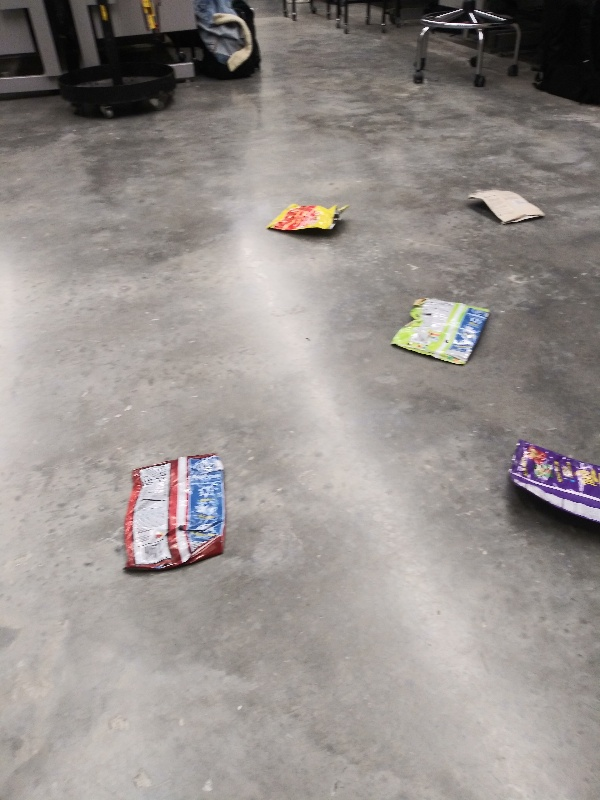bag: (118, 449, 235, 579), (503, 437, 600, 535), (390, 295, 496, 373), (461, 184, 550, 228), (263, 197, 353, 235)
